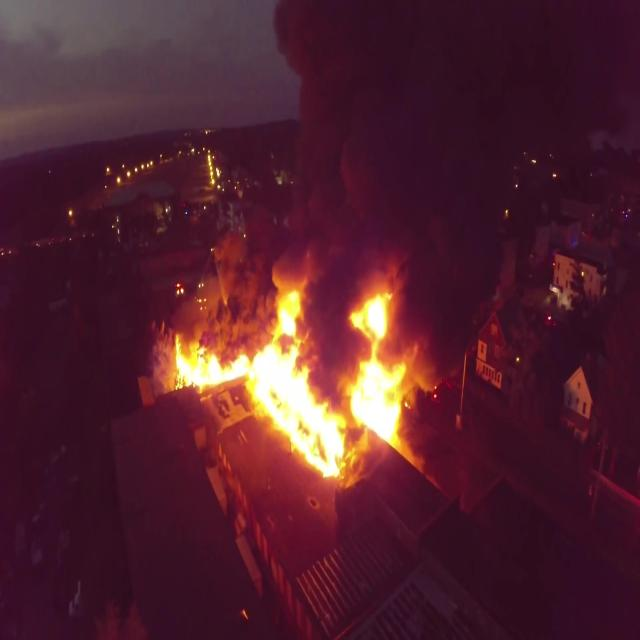Fire: (172, 266, 419, 478)
Smoke: (268, 0, 639, 385)
